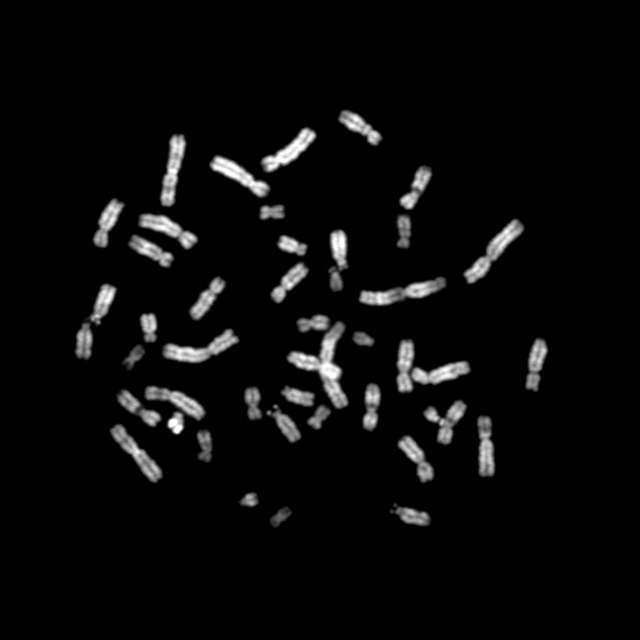chromosome: (464, 219, 524, 285), (110, 425, 162, 483), (360, 275, 448, 305), (162, 328, 238, 362), (320, 322, 348, 408), (209, 157, 269, 197), (262, 127, 314, 171), (146, 386, 204, 422), (140, 214, 196, 248), (160, 137, 185, 207), (270, 262, 308, 304), (118, 389, 160, 427), (338, 110, 380, 148), (191, 275, 227, 319), (287, 352, 343, 380), (128, 235, 174, 268), (401, 437, 434, 481), (94, 198, 124, 246), (399, 166, 431, 210), (410, 361, 470, 384), (266, 404, 300, 444), (438, 401, 466, 445), (477, 414, 495, 480), (527, 340, 549, 392), (89, 282, 115, 324), (389, 502, 429, 528), (396, 338, 414, 392), (362, 384, 382, 430), (281, 384, 313, 408), (331, 230, 349, 272), (268, 504, 294, 530), (424, 407, 454, 429), (243, 386, 261, 422), (278, 234, 306, 256), (195, 431, 213, 465), (298, 314, 328, 334), (140, 314, 160, 344), (394, 216, 412, 248), (122, 345, 146, 369), (77, 324, 93, 358), (307, 406, 329, 428), (260, 202, 284, 222), (351, 329, 375, 348), (166, 411, 184, 435), (236, 492, 259, 508), (327, 267, 343, 289)
